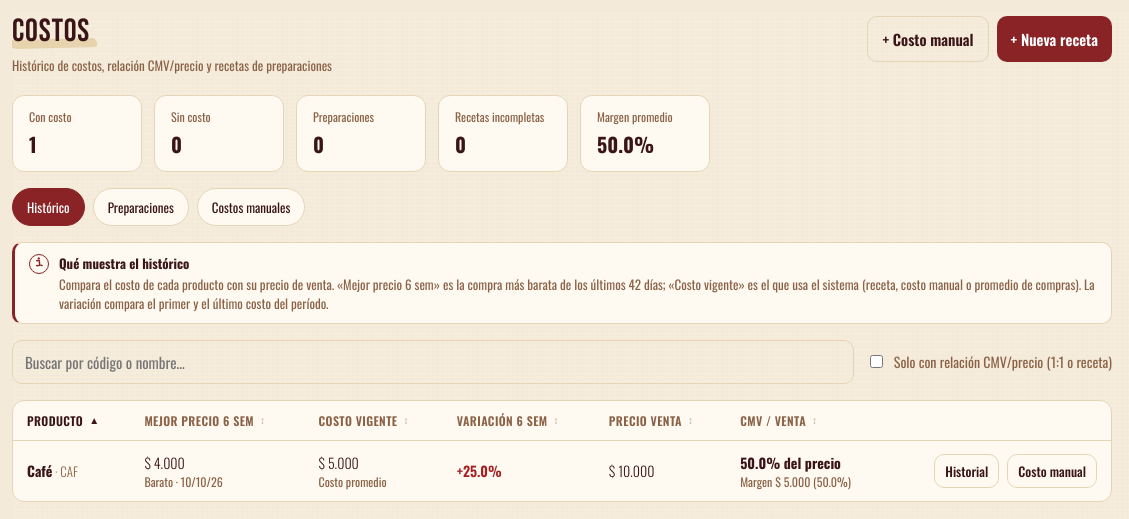
Scenario: Costos › lista las preparaciones con su costo
The image size is (1129, 519).
Check: the text "Café" is shown, box [27, 460, 52, 481]
Step 1. Click the button "Preparaciones" → (141, 207), box [93, 188, 189, 226]
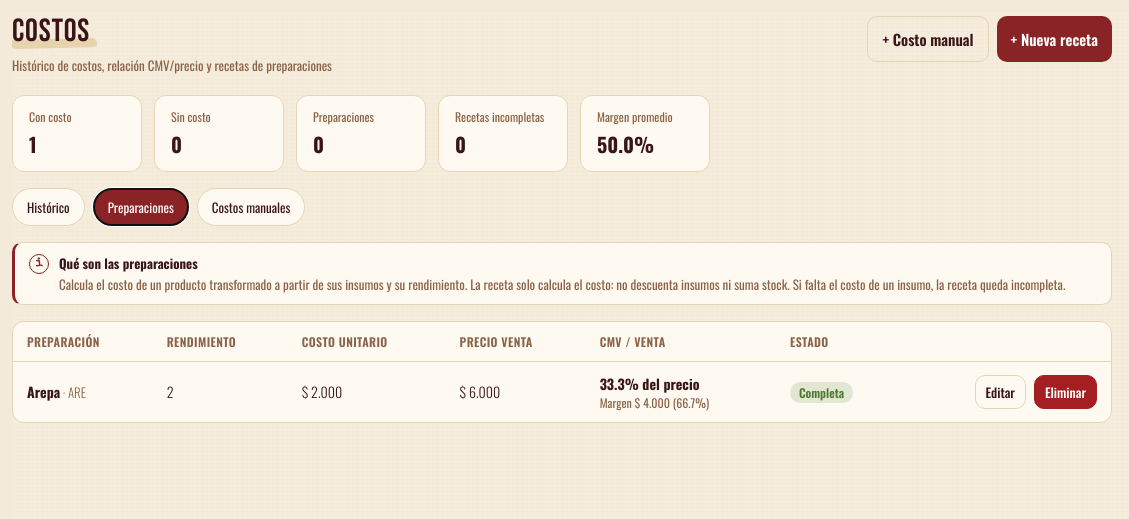
Check: the text "Arepa" is shown, box [27, 381, 60, 402]
Check: the text "Completa" is shown, box [790, 382, 853, 403]
Check: the text "$ 2.000" is shown, box [288, 361, 446, 422]
